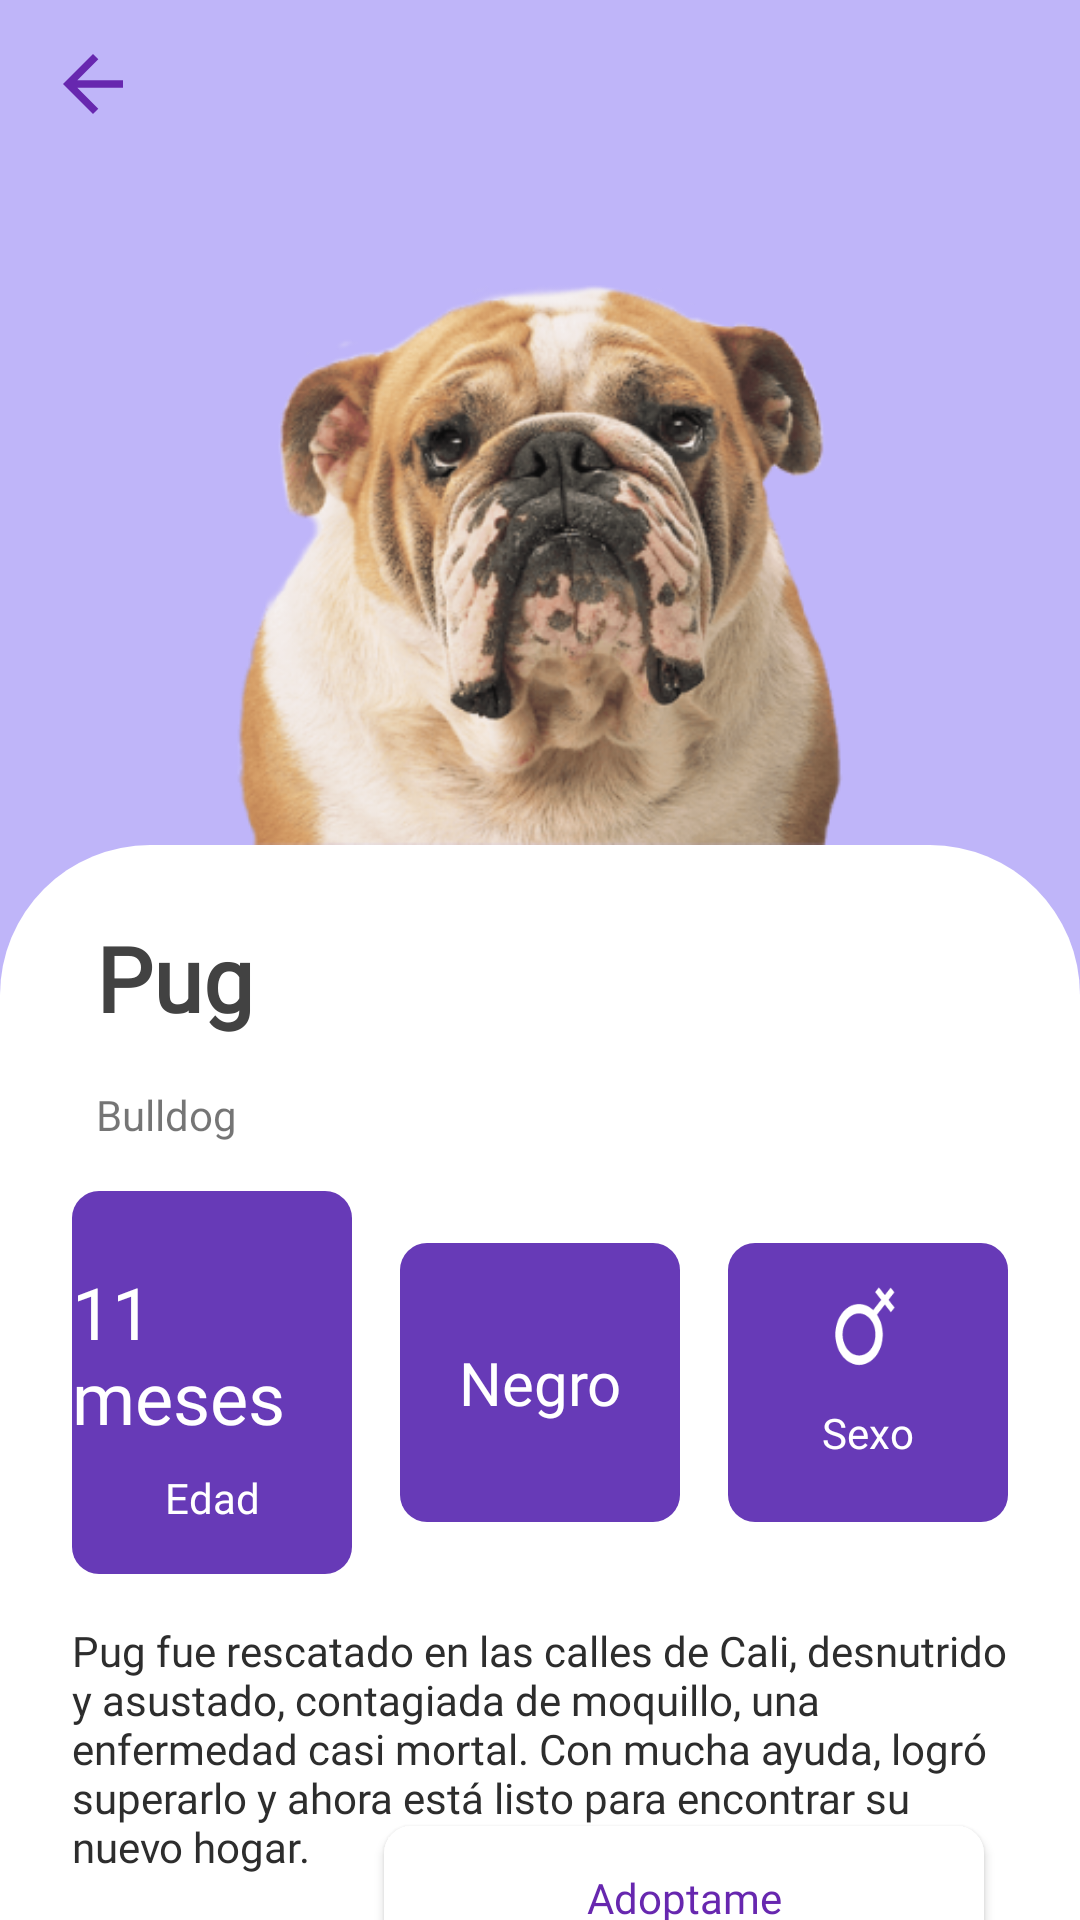

Icon click points for this 1080x1920 phone screenshot, format point (x, y):
arrow back: point (93, 84)
